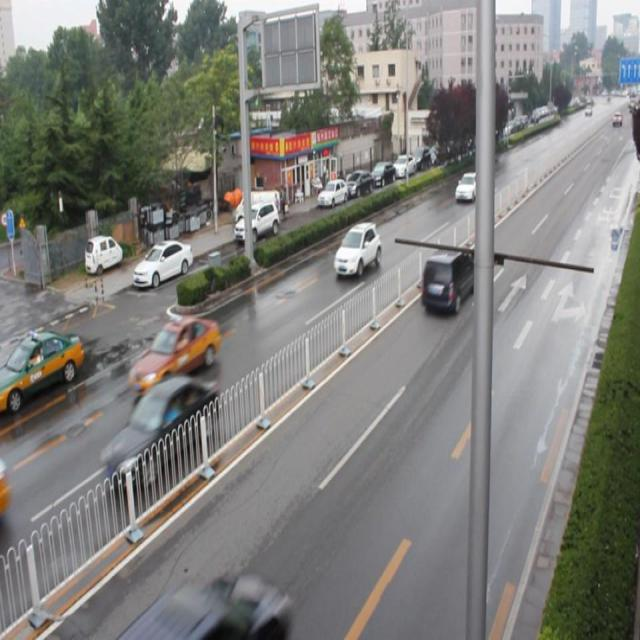car: (100, 381, 218, 487), (129, 313, 220, 397), (333, 221, 380, 280), (452, 169, 482, 204)
truck: (421, 241, 477, 312)
